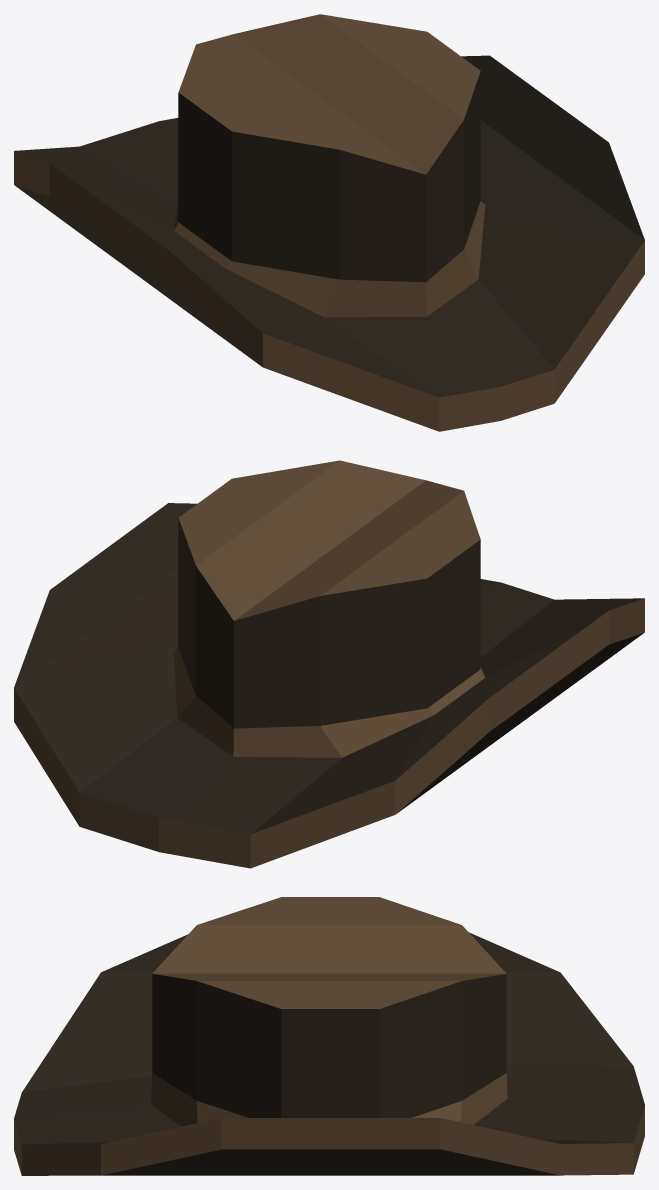
Rendered from Hat.fbx.
3 views of the same model, one above another, from view 1: azimuth 30°, elevation 25°; view 2: azimuth 150°, elevation 25°; view 3: azimuth 270°, elevation 25° (orthographic). The views are drawn at different scales.
Visible parts, largest first — view 1: Cube.002; view 2: Cube.002; view 3: Cube.002.
Part boxes in pixels (x1,y1,x2,y2): Cube.002: (14,14,644,431); Cube.002: (14,460,644,868); Cube.002: (14,897,644,1175).
Bounding box in the file's own units: 35.37 × 47.57 × 16.38.
1 material, 1 textured.
